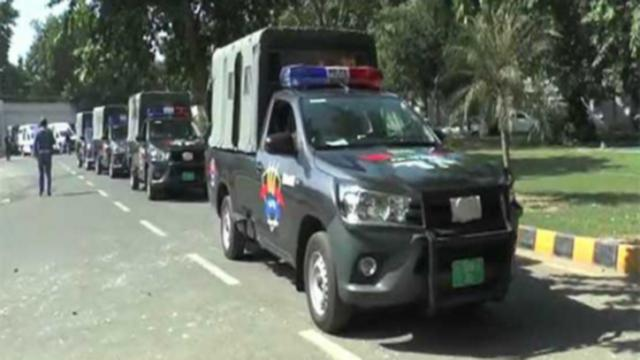police_car: (214, 40, 519, 319), (134, 88, 209, 202)
